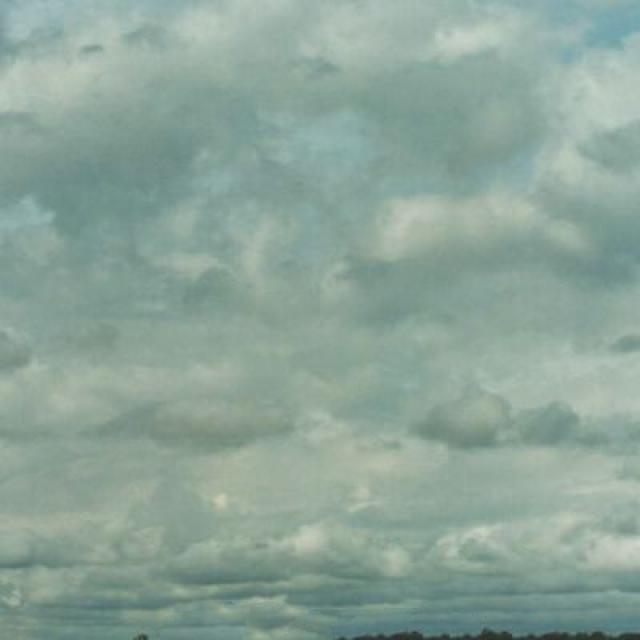Sc: (3, 51, 640, 494)
